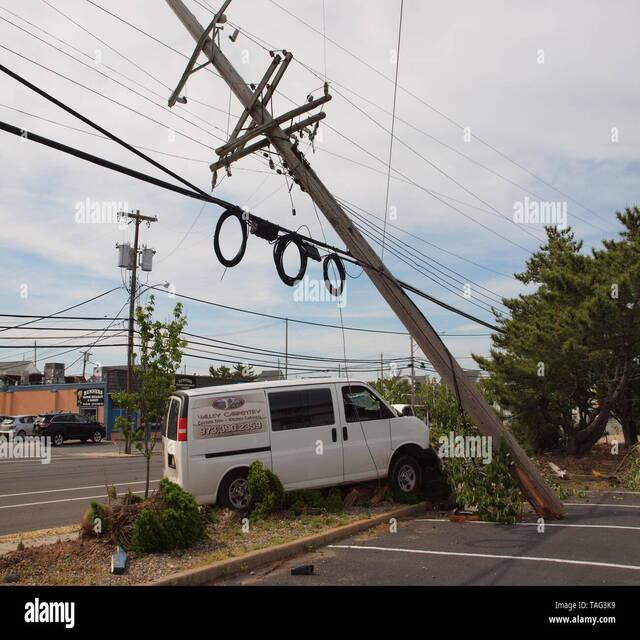Inclined Pole: (154, 0, 566, 515)
